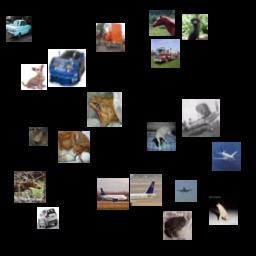airplane: (182, 99, 220, 137), (97, 178, 129, 210), (130, 174, 162, 206), (212, 142, 241, 171), (175, 180, 197, 202)
automobile: (48, 49, 86, 87), (6, 16, 32, 42), (37, 207, 59, 229)
bird: (182, 14, 208, 40)
cat: (58, 131, 90, 163)
deer: (14, 171, 46, 203)
dog: (147, 122, 176, 151), (21, 64, 47, 90)
frog: (87, 92, 122, 127), (209, 196, 238, 225), (163, 211, 192, 240), (29, 127, 48, 146)
truck: (96, 23, 125, 52), (151, 39, 180, 68)
